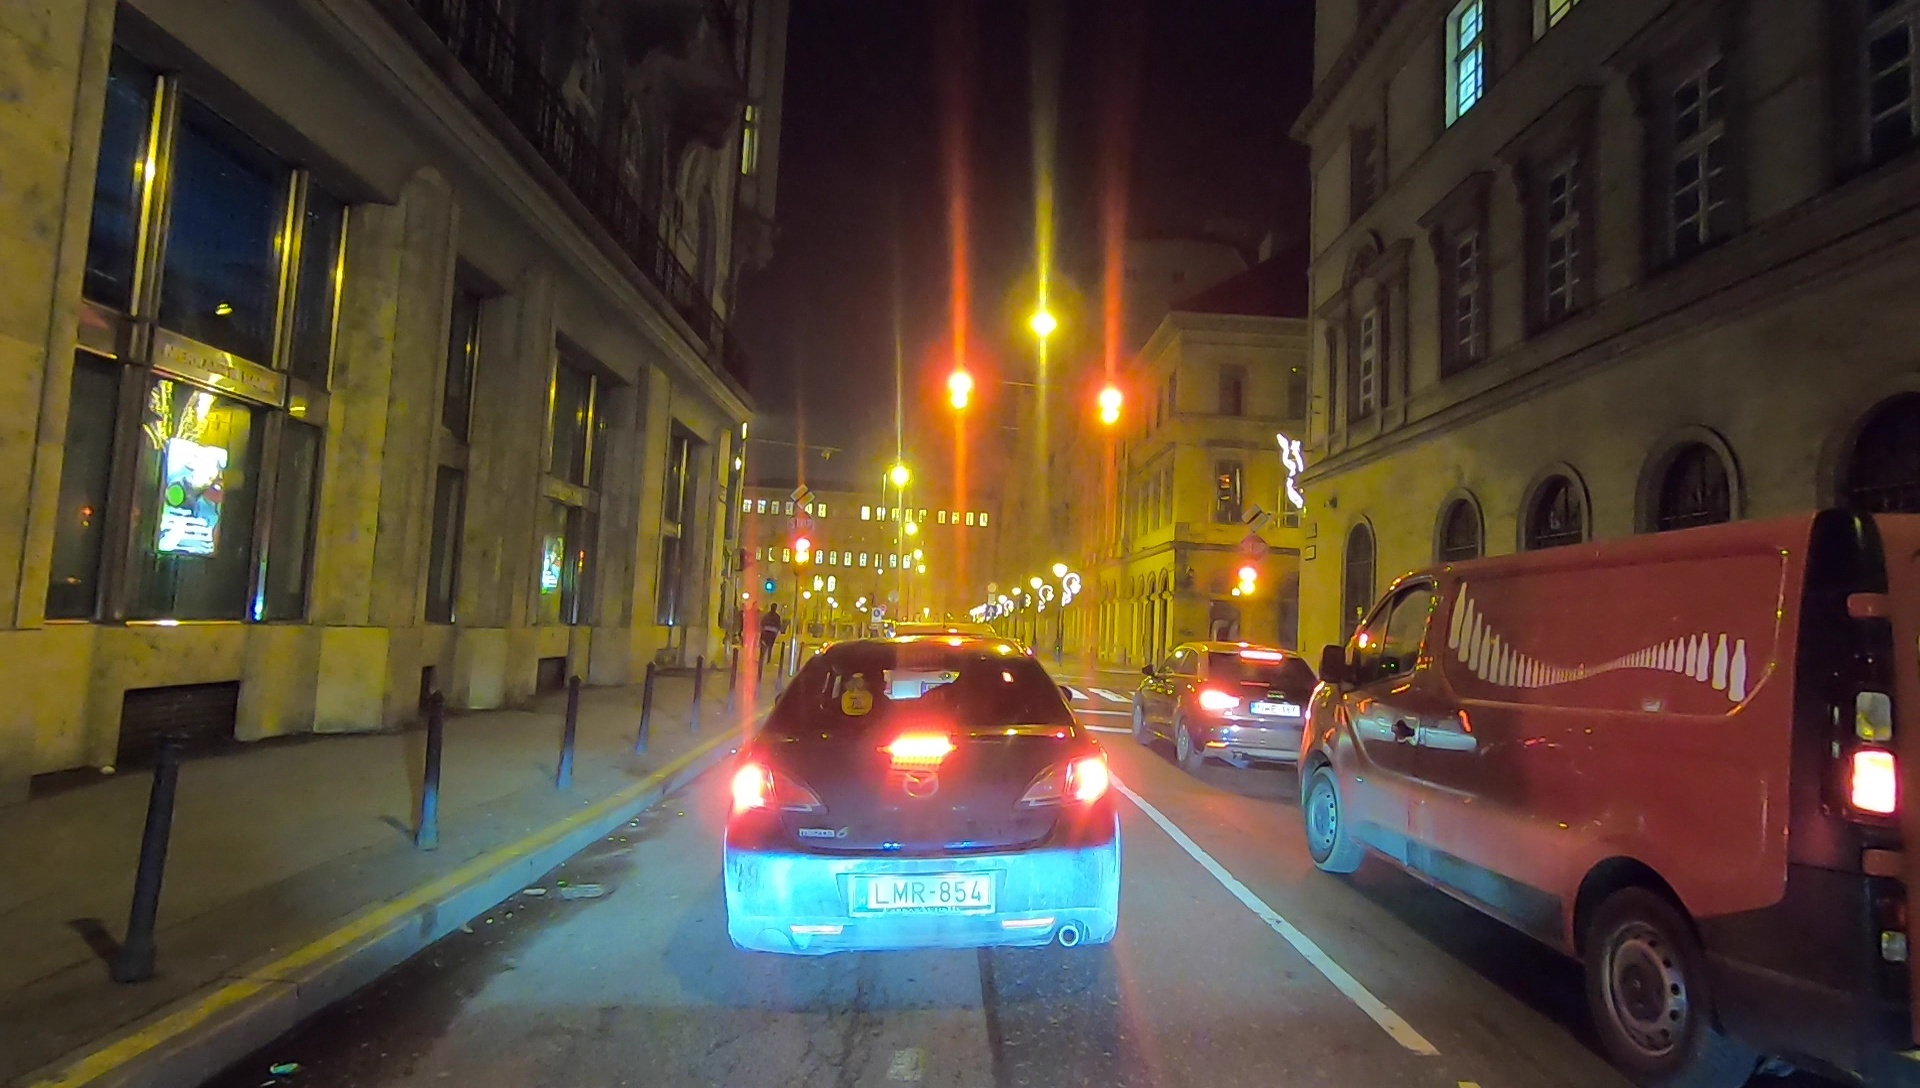person: (764, 608, 780, 671)
